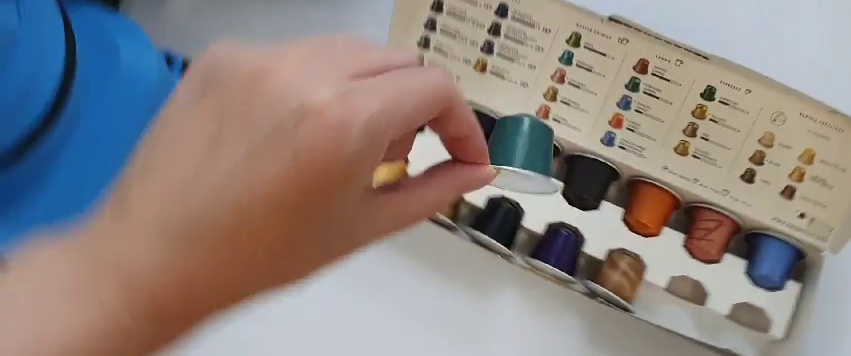capsule_13: (477, 115, 564, 198)
